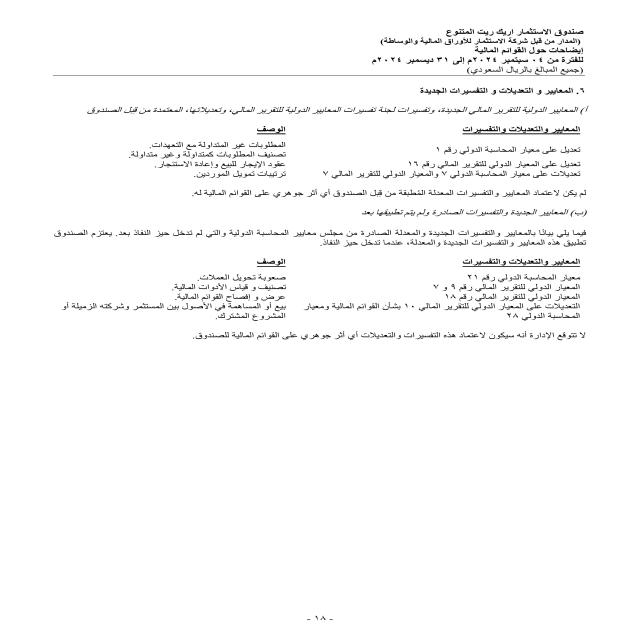notes: (458, 47, 584, 55)
text: (42, 84, 590, 346)
